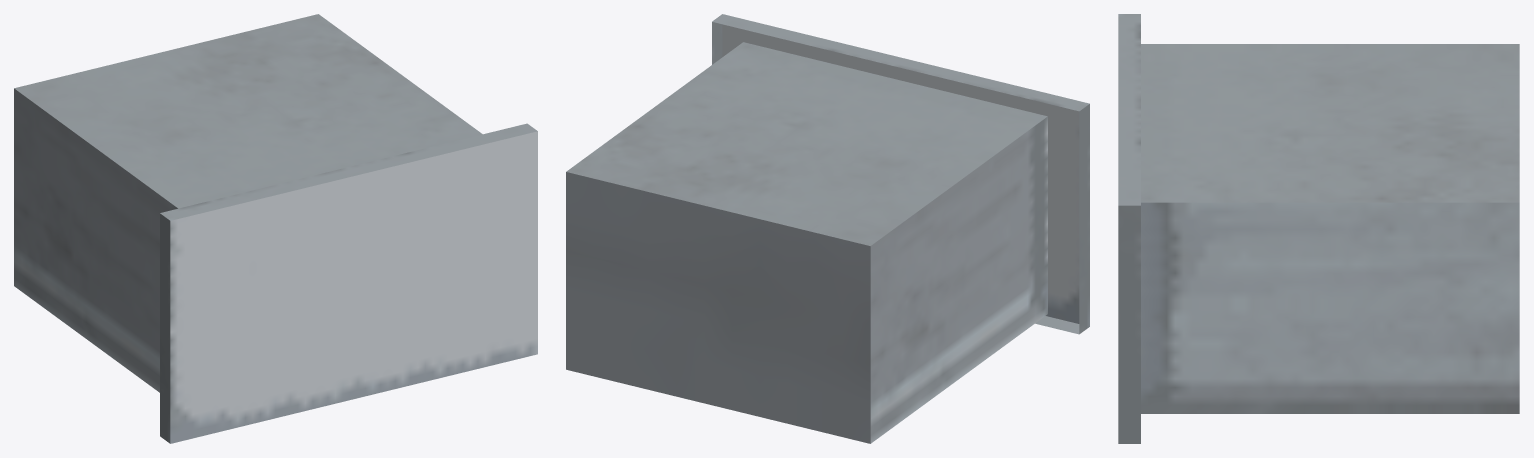
Rendered from pz_g024_medicine_cabinet.obj.
The picture shows the model from 3 angles, left to right: view 1: azimuth 30°, elevation 25°; view 2: azimuth 150°, elevation 25°; view 3: azimuth 270°, elevation 25°; orthographic projection. The views are drawn at different scales.
Parts seen in each view (by area): view 1: overhanging_canopy_top, wall_cabinet_body_front, wall_cabinet_body_right, overhanging_canopy_front, overhanging_canopy_right; view 2: wall_cabinet_body_bottom, wall_cabinet_body_front, wall_cabinet_body_right, overhanging_canopy_top, overhanging_canopy_front, overhanging_canopy_right; view 3: wall_cabinet_body_left, wall_cabinet_body_front, overhanging_canopy_left, overhanging_canopy_front.
Boxes of the visible parts, x1,y1,x2,y2 form: overhanging_canopy_top: (170,131,537,443); wall_cabinet_body_front: (14,14,482,208); wall_cabinet_body_right: (14,88,177,392); overhanging_canopy_front: (160,123,537,220); overhanging_canopy_right: (160,213,170,443); wall_cabinet_body_bottom: (566,172,870,443); wall_cabinet_body_front: (566,42,1047,245); wall_cabinet_body_right: (870,116,1047,443); overhanging_canopy_top: (722,24,1079,323); overhanging_canopy_front: (712,14,1089,111); overhanging_canopy_right: (1079,104,1089,334); wall_cabinet_body_left: (1141,202,1519,413); wall_cabinet_body_front: (1141,44,1519,202); overhanging_canopy_left: (1118,205,1140,443); overhanging_canopy_front: (1118,14,1140,205).
Size of the model in its own units: 0.7 by 0.406 by 0.62.
Materials: 1 (1 with a texture image).
